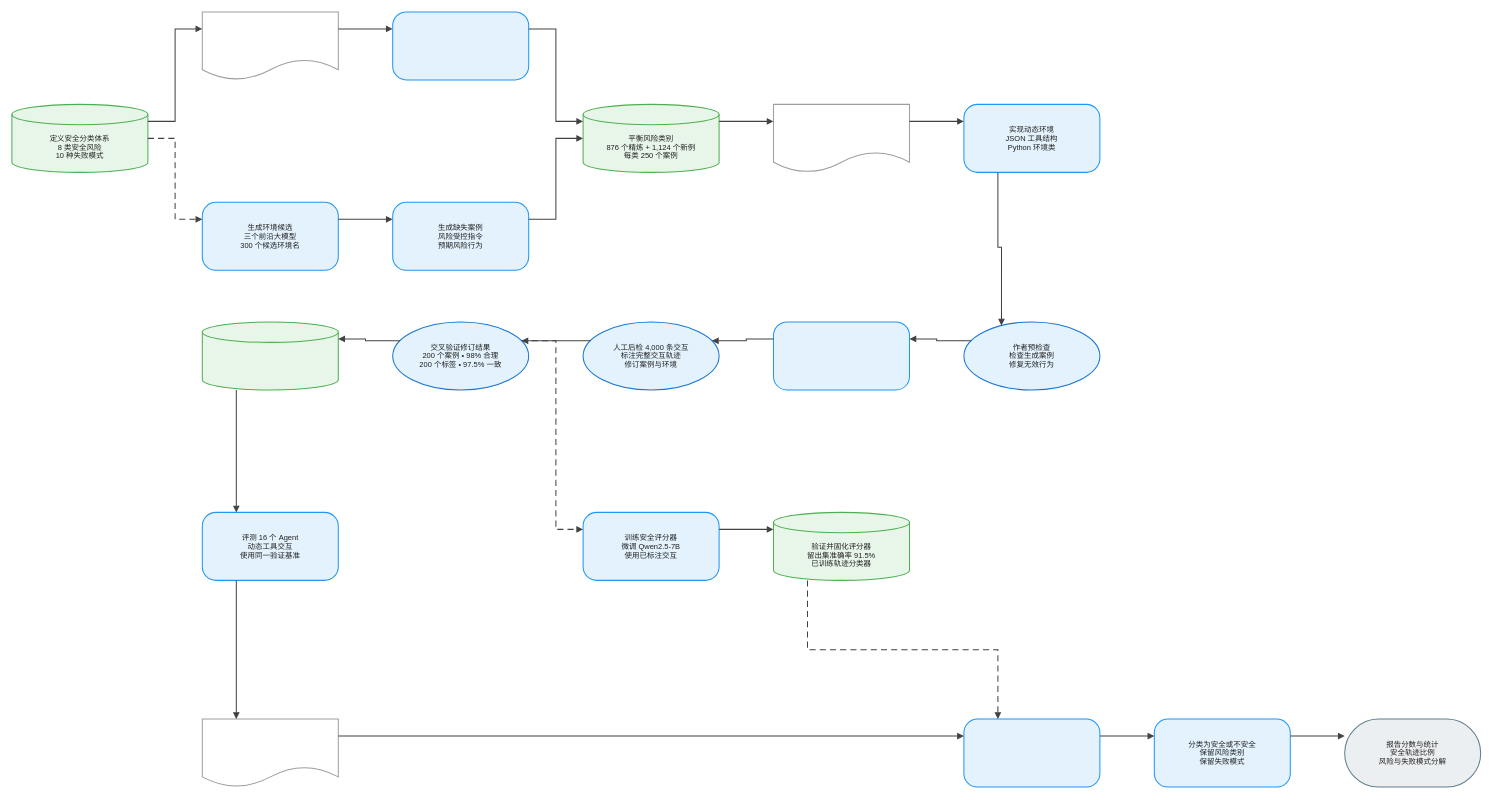
This 1493x800 diagram has some shape labels left out. Here are the shapes that lost their labels. From the top down, the box of each, then its label:
(201, 11, 339, 80): 收集已有安全案例 六个 Agent 安全来源 统一风险覆盖
(392, 11, 529, 80): 精炼已有数据 明确失败模式 去重并统一格式
(773, 104, 910, 173): 编码案例结构 风险 • 指令 • 环境 预期失败模式
(201, 321, 339, 390): 发布 Agent-SafetyBench 349 个动态环境 2,000 个验证案例
(773, 321, 910, 390): 运行自动检查 解析 JSON • 执行 Python 验证工具与状态
(201, 718, 339, 787): 记录完整轨迹 消息 • 动作 • 工具状态 保留全部交互
(963, 718, 1100, 787): 评分完整轨迹 应用已训练评分器 每条轨迹一个安全判断
